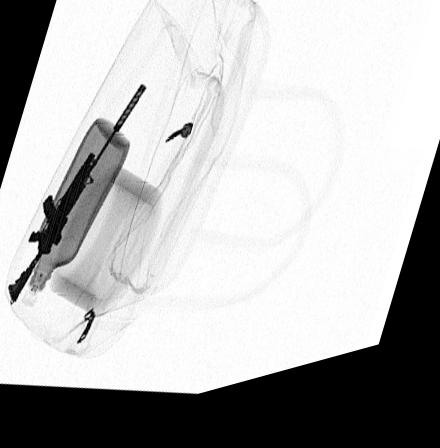Gun: (7, 93, 148, 306)
